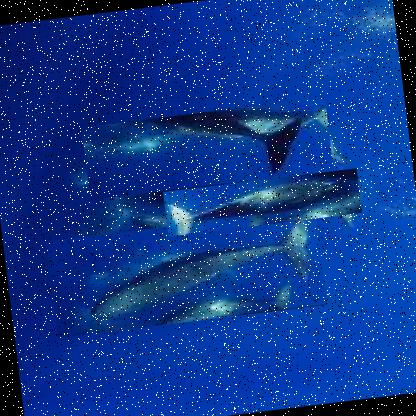sperm_whale: (44, 206, 326, 336), (80, 95, 333, 198), (104, 160, 286, 258), (162, 166, 362, 236)
